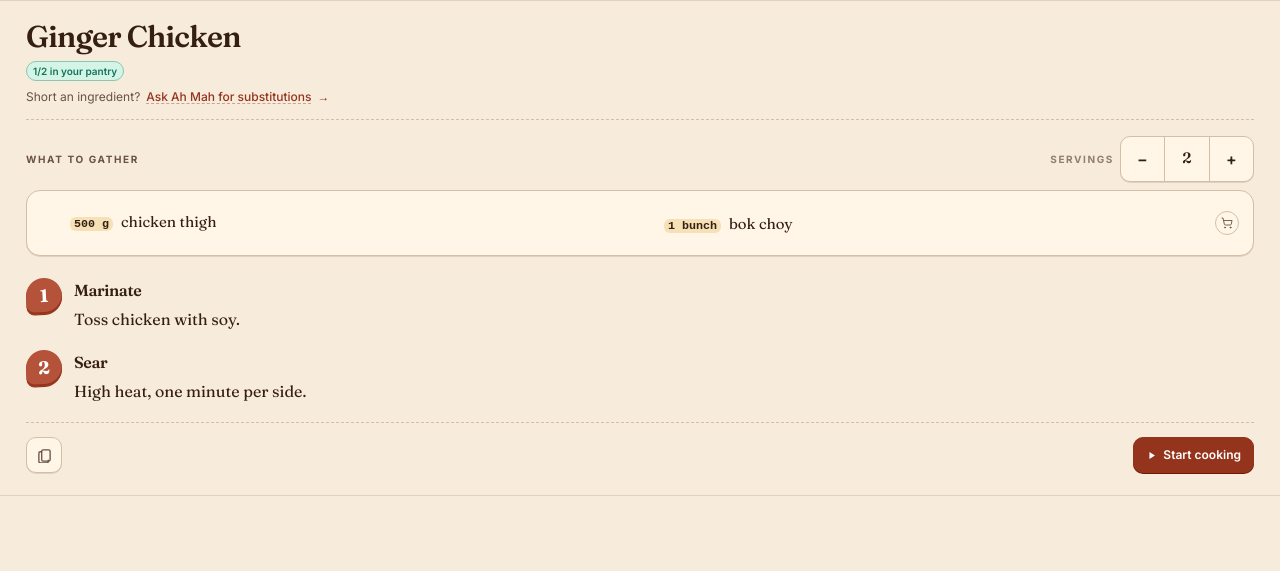
Test: Substitutions opens reconcile mode › gives every ingredient a checkbox, pre-ticked from the pantry
The width and height of the screenshot is (1280, 571).
Step 1. Click the button "Short an ingredient? Ask Ah Mah for substitutions →" → (178, 96), box [26,88,330,104]
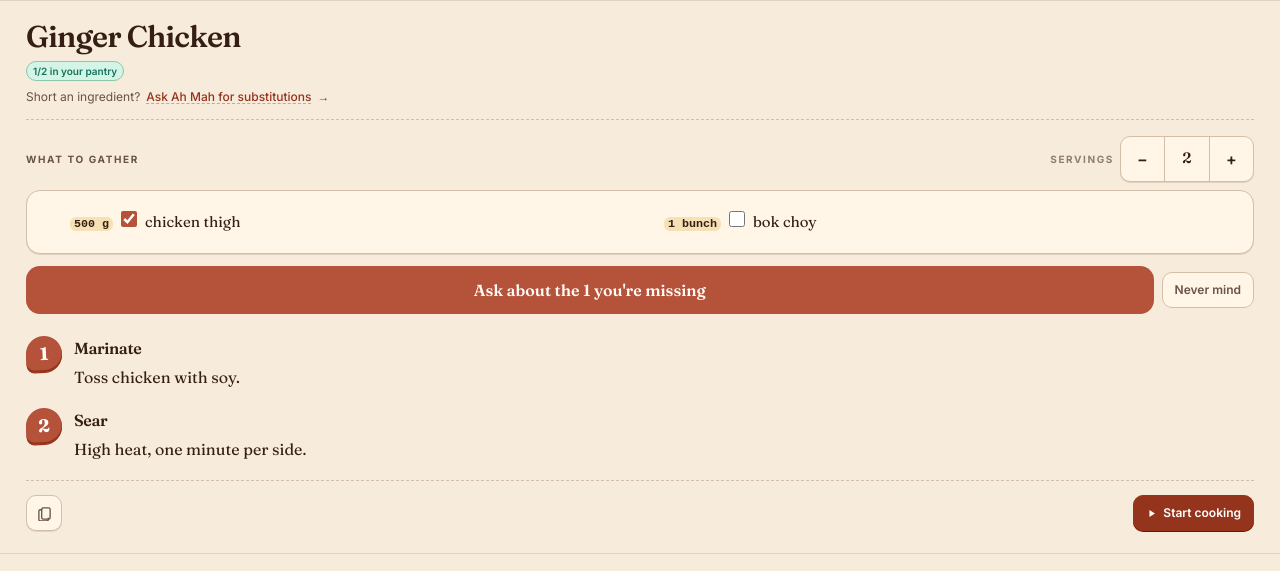
Check: the checkbox named "chicken thigh" is checked, box [121,210,137,226]
Check: the checkbox named "bok choy" is not checked, box [729,210,745,226]
